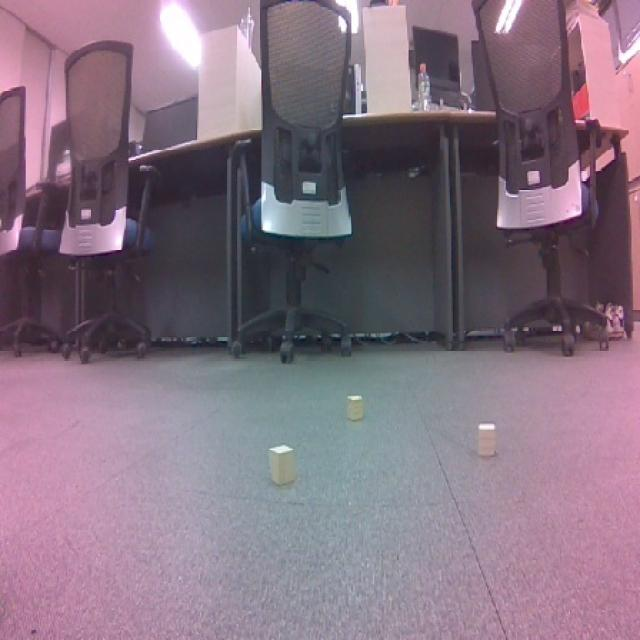obstacle: (261, 437, 308, 493), (470, 412, 504, 467), (335, 388, 377, 428)
